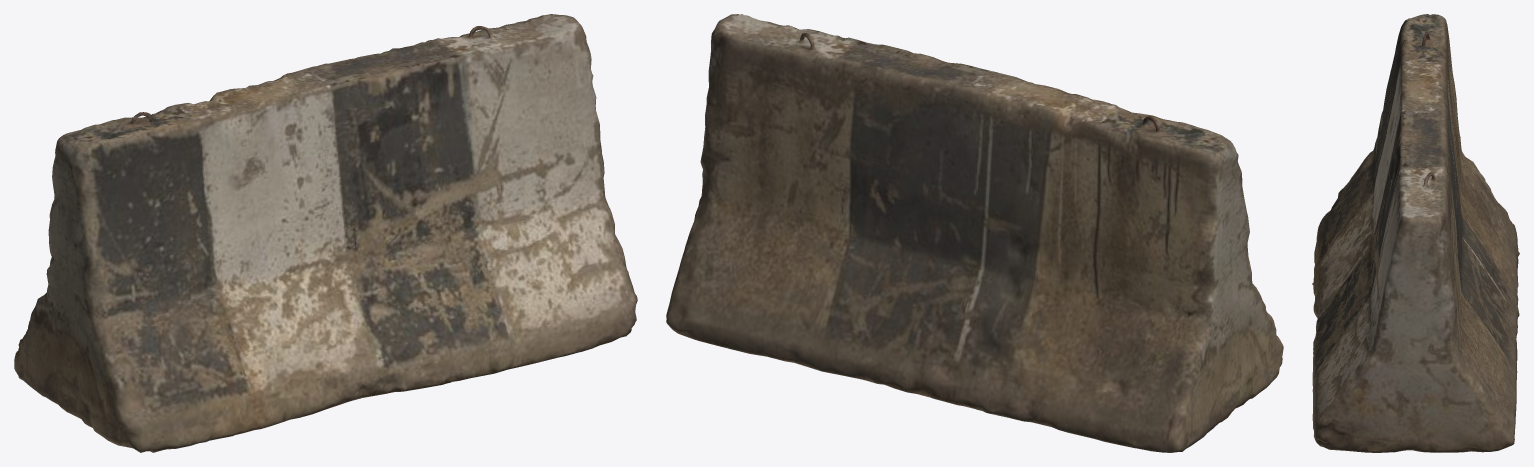
The model's file is barrier-concrete.4850db86.glb.
The picture shows the model from 3 angles, left to right: view 1: azimuth 30°, elevation 25°; view 2: azimuth 150°, elevation 25°; view 3: azimuth 270°, elevation 25°; orthographic projection. The views are drawn at different scales.
Visible parts, largest first — view 1: model; view 2: model; view 3: model.
Boxes of the visible parts, x1=… form: model: x1=14, y1=14, x2=637, y2=452; model: x1=666, y1=14, x2=1283, y2=452; model: x1=1312, y1=14, x2=1519, y2=452.
Size of the model in its own units: 1.54 by 0.83 by 0.6387.
Materials: 1 (1 with a texture image).
